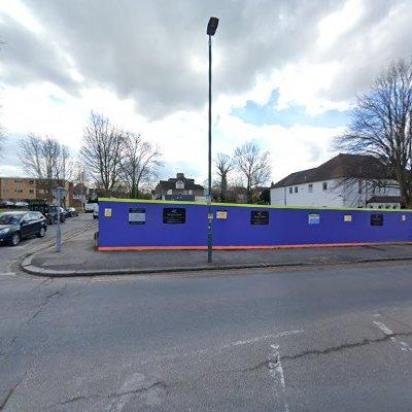moving-car: (0, 210, 50, 248)
stationary-car-offstreet: (0, 200, 14, 206), (15, 201, 29, 207)
stationary-light-truck-onstreet: (85, 203, 98, 213), (92, 206, 98, 221)
